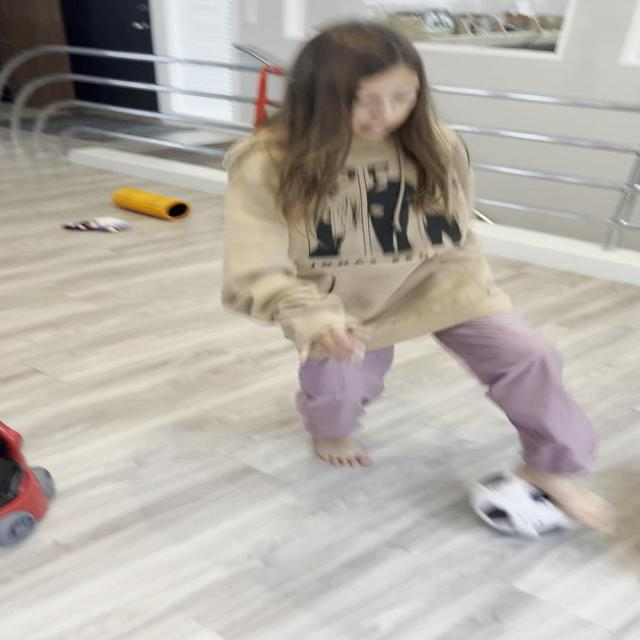Soccer Ball: (470, 468, 592, 537)
